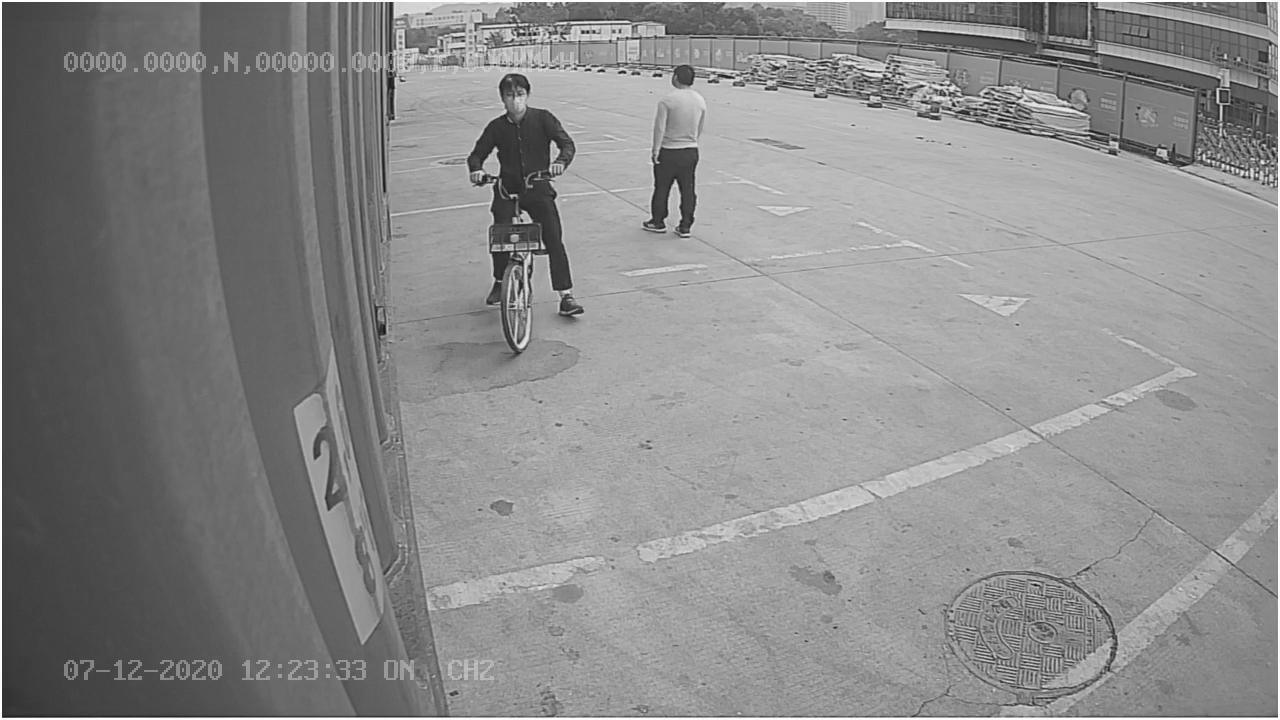person: (627, 56, 711, 241)
